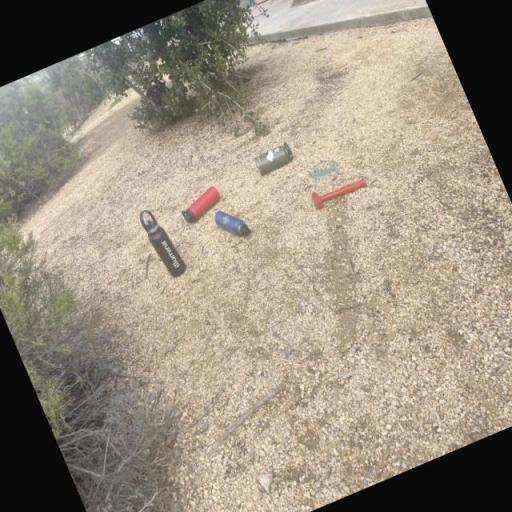bottle: (136, 202, 190, 281), (176, 183, 226, 226), (210, 200, 252, 245), (251, 140, 296, 176)
mallet: (308, 170, 370, 212)
